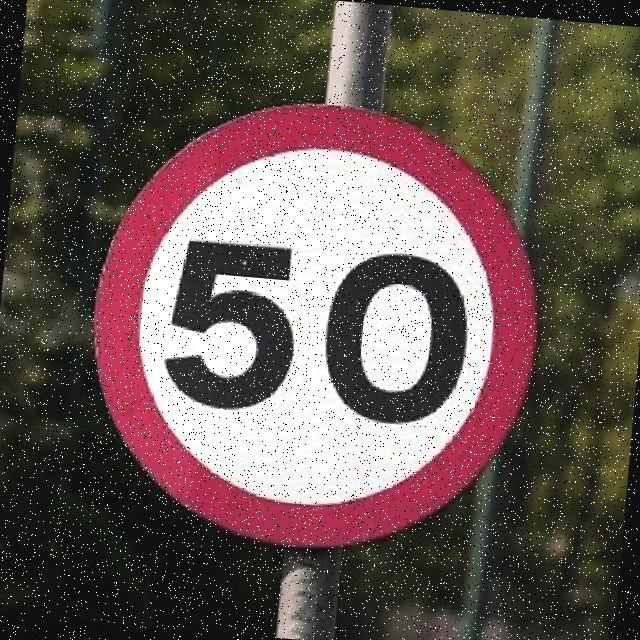Ograniczenie predkosci do 50: (85, 74, 528, 552)
